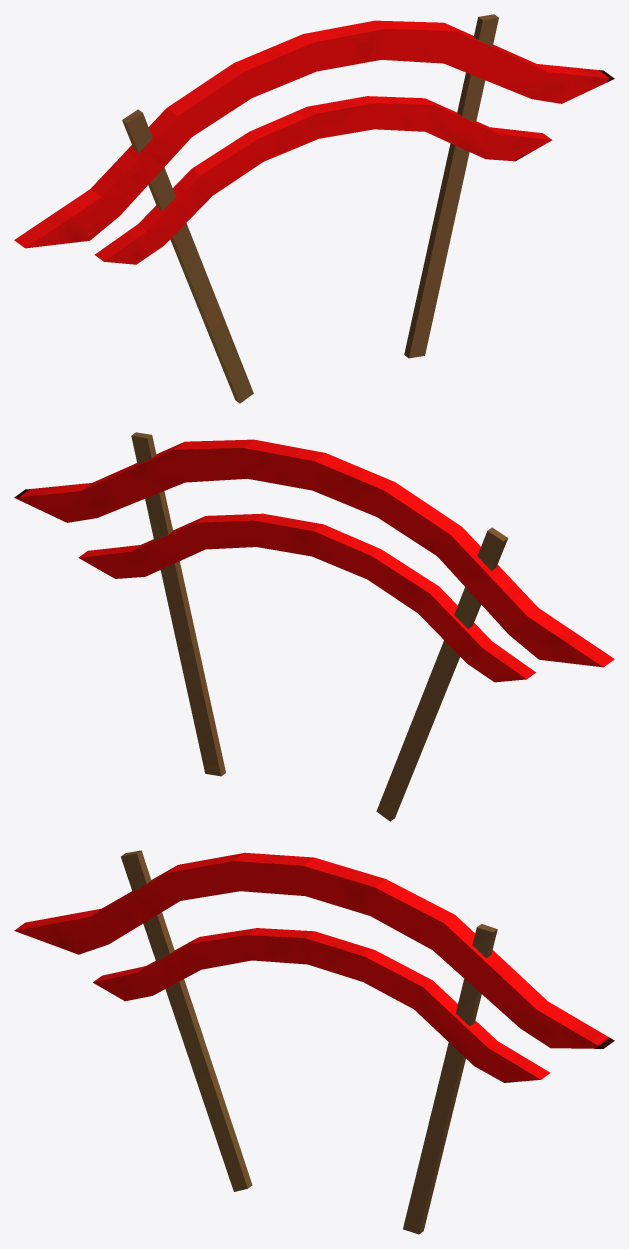
File: JapArc.glb
3 views of the same model, one above another, from view 1: azimuth 30°, elevation 25°; view 2: azimuth 150°, elevation 25°; view 3: azimuth 330°, elevation 25° (orthographic).
Parts seen in each view (by area): view 1: JapArc; view 2: JapArc; view 3: JapArc.
Part boxes in pixels (x1,y1,x2,y2): JapArc: (14,14,614,403); JapArc: (14,432,614,821); JapArc: (14,850,614,1234).
Size of the model in its own units: 419 by 235 by 13.88.
1 material, 1 textured.
